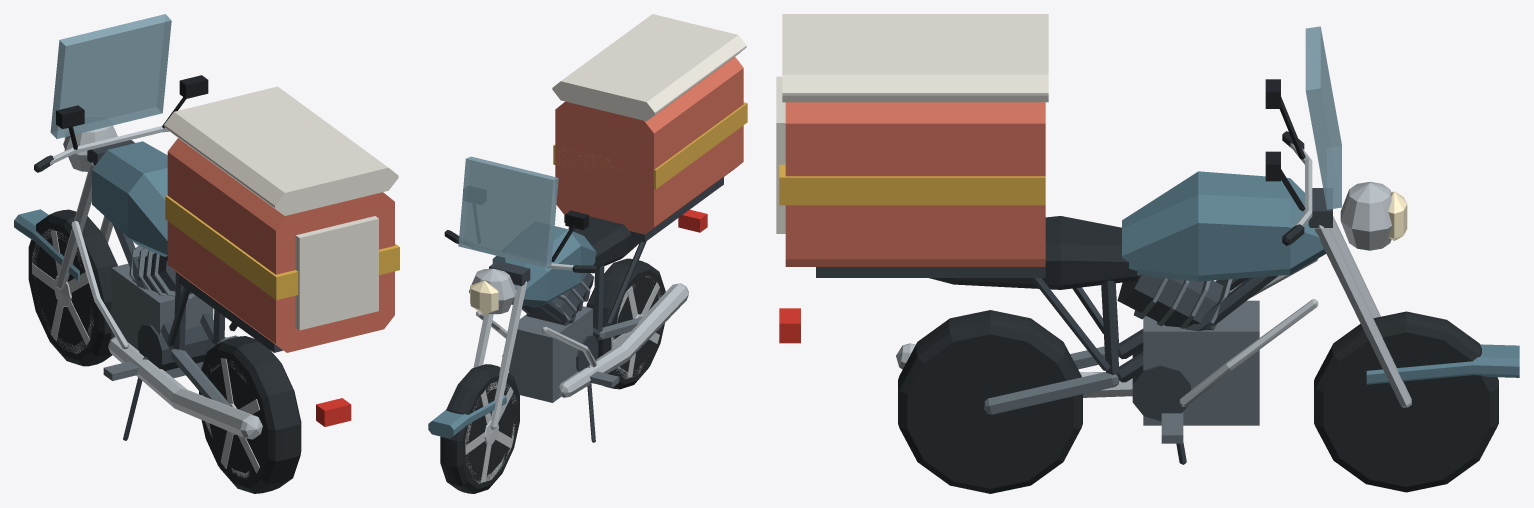
The model's file is SMALL_05.obj.
3 views of the same model, side by side, from view 1: azimuth 30°, elevation 25°; view 2: azimuth 150°, elevation 25°; view 3: azimuth 270°, elevation 25° (orthographic). The views are drawn at different scales.
Parts seen in each view (by area): view 1: cargo_box, cargo_lid, wheel_R, windscreen, wheel_F, engine, fuel_tank, exhaust, frame, forks, rear_rack, mirrors (+7 smaller); view 2: cargo_box, cargo_lid, windscreen, wheel_F, engine, wheel_R, fuel_tank, exhaust, forks, seat, headlight, rear_rack (+7 smaller); view 3: cargo_box, wheel_R, cargo_lid, wheel_F, fuel_tank, engine, seat, forks, windscreen, rear_rack, frame, headlight (+7 smaller).
Part boxes in pixels (x1,y1,x2,y2): cargo_box: [165, 138, 399, 352]; cargo_lid: [164, 86, 398, 215]; wheel_R: [199, 336, 301, 493]; windscreen: [50, 14, 171, 138]; wheel_F: [28, 209, 117, 366]; engine: [111, 246, 214, 378]; fuel_tank: [92, 141, 167, 256]; exhaust: [108, 336, 262, 439]; frame: [112, 223, 225, 351]; forks: [56, 140, 134, 289]; rear_rack: [167, 274, 282, 352]; mirrors: [56, 75, 208, 149]; cargo_box: [553, 57, 747, 234]; cargo_lid: [552, 14, 746, 121]; windscreen: [458, 156, 558, 267]; wheel_F: [440, 364, 519, 493]; engine: [509, 273, 598, 402]; wheel_R: [586, 258, 665, 389]; fuel_tank: [492, 226, 596, 306]; exhaust: [558, 283, 688, 397]; forks: [473, 260, 530, 429]; seat: [568, 216, 639, 268]; headlight: [469, 268, 516, 314]; rear_rack: [564, 177, 723, 325]; cargo_box: [776, 76, 1045, 266]; wheel_R: [898, 310, 1082, 493]; cargo_lid: [782, 14, 1048, 102]; wheel_F: [1314, 311, 1498, 492]; fuel_tank: [1122, 171, 1325, 281]; engine: [1117, 274, 1259, 425]; seat: [929, 216, 1137, 289]; forks: [1308, 188, 1411, 407]; windscreen: [1305, 26, 1341, 209]; rear_rack: [816, 267, 1110, 370]; frame: [1101, 275, 1278, 382]; headlight: [1340, 181, 1407, 250].
Bounding box in the file's own units: 0.8286 × 1.61 × 2.43.
